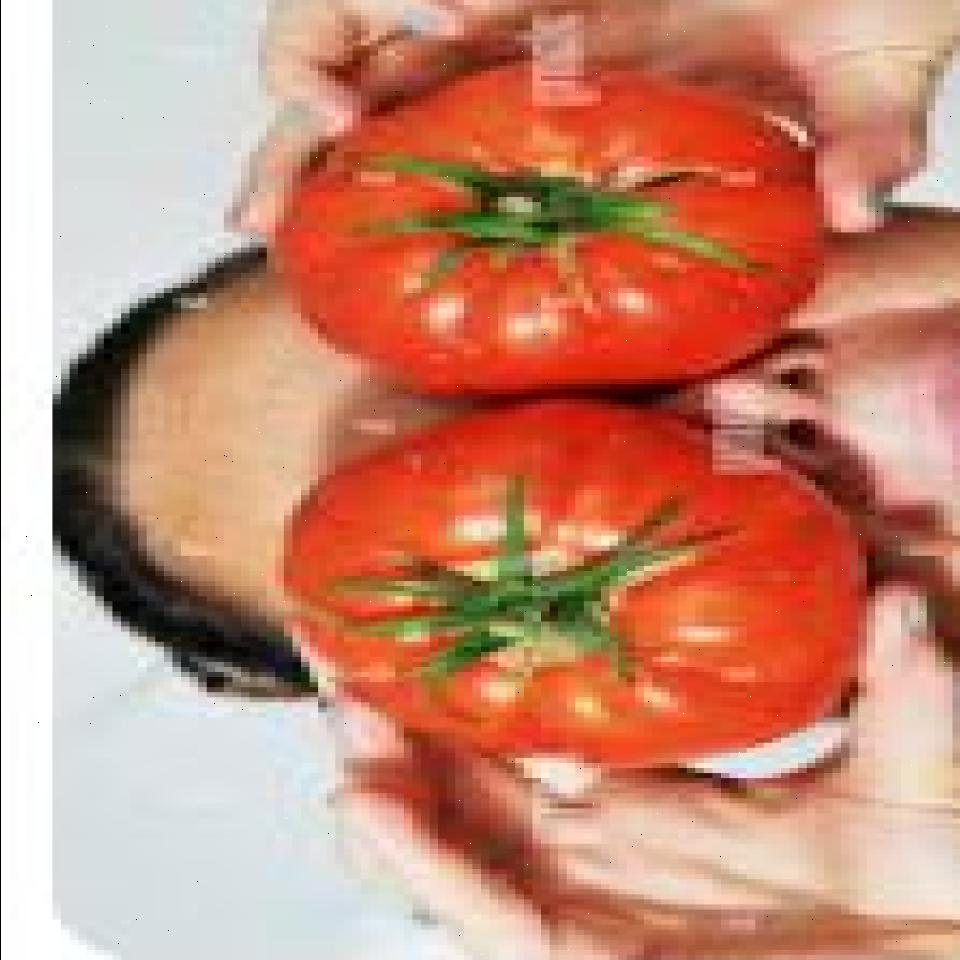Healthy: (287, 404, 837, 748)
